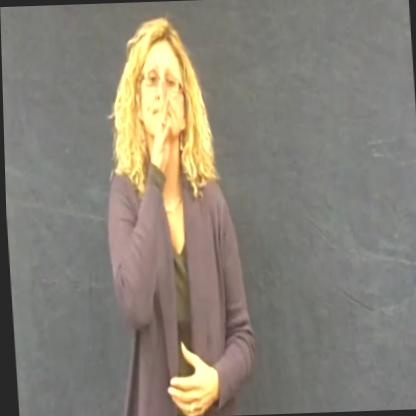Talk: (92, 15, 257, 416)
